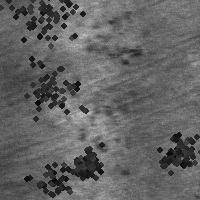rolled-in_scale: (9, 49, 87, 127), (0, 0, 88, 63), (0, 0, 93, 53), (79, 86, 142, 155), (13, 147, 83, 200), (84, 10, 144, 68), (149, 124, 200, 178), (64, 140, 106, 182)
